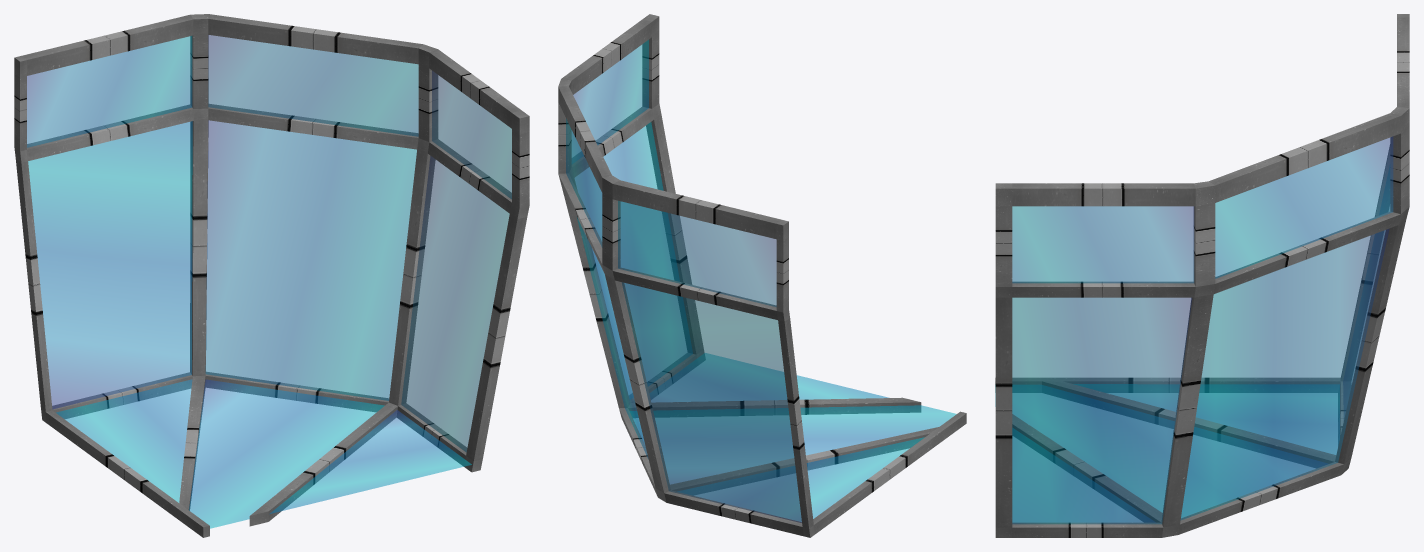
File: Half_Dome_Right_01.FBX
3 views of the same model, side by side, from view 1: azimuth 30°, elevation 25°; view 2: azimuth 150°, elevation 25°; view 3: azimuth 270°, elevation 25° (orthographic). The views are drawn at different scales.
Visible parts, largest first — view 1: Half_Dome_Right_01; view 2: Half_Dome_Right_01; view 3: Half_Dome_Right_01.
Part boxes in pixels (box(x1,y1,x2,y2)): Half_Dome_Right_01: box(14, 14, 529, 537); Half_Dome_Right_01: box(558, 14, 966, 537); Half_Dome_Right_01: box(995, 14, 1409, 537).
Size of the model in its own units: 140 by 140 by 140.
